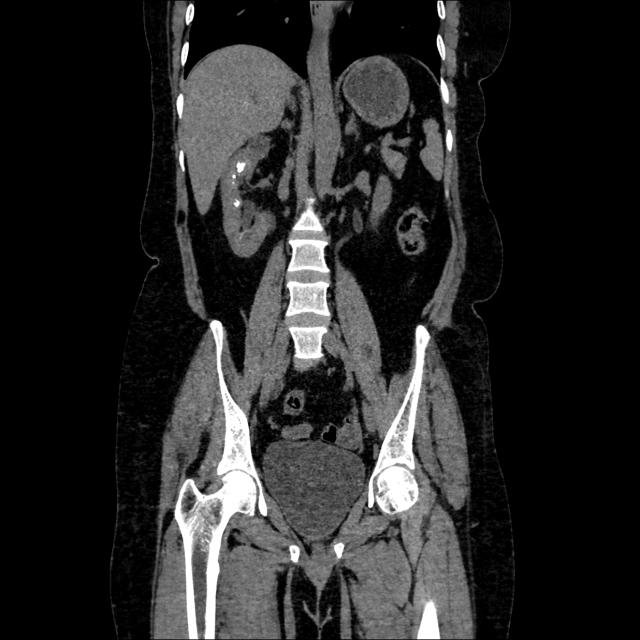kidney: (221, 135, 278, 260)
stone: (232, 196, 241, 208), (237, 160, 244, 172), (232, 174, 236, 179), (231, 182, 235, 185)
